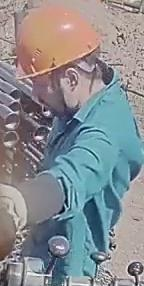gloves: (0, 181, 46, 262)
helmet: (14, 2, 103, 79)
vest: (40, 68, 142, 276)
